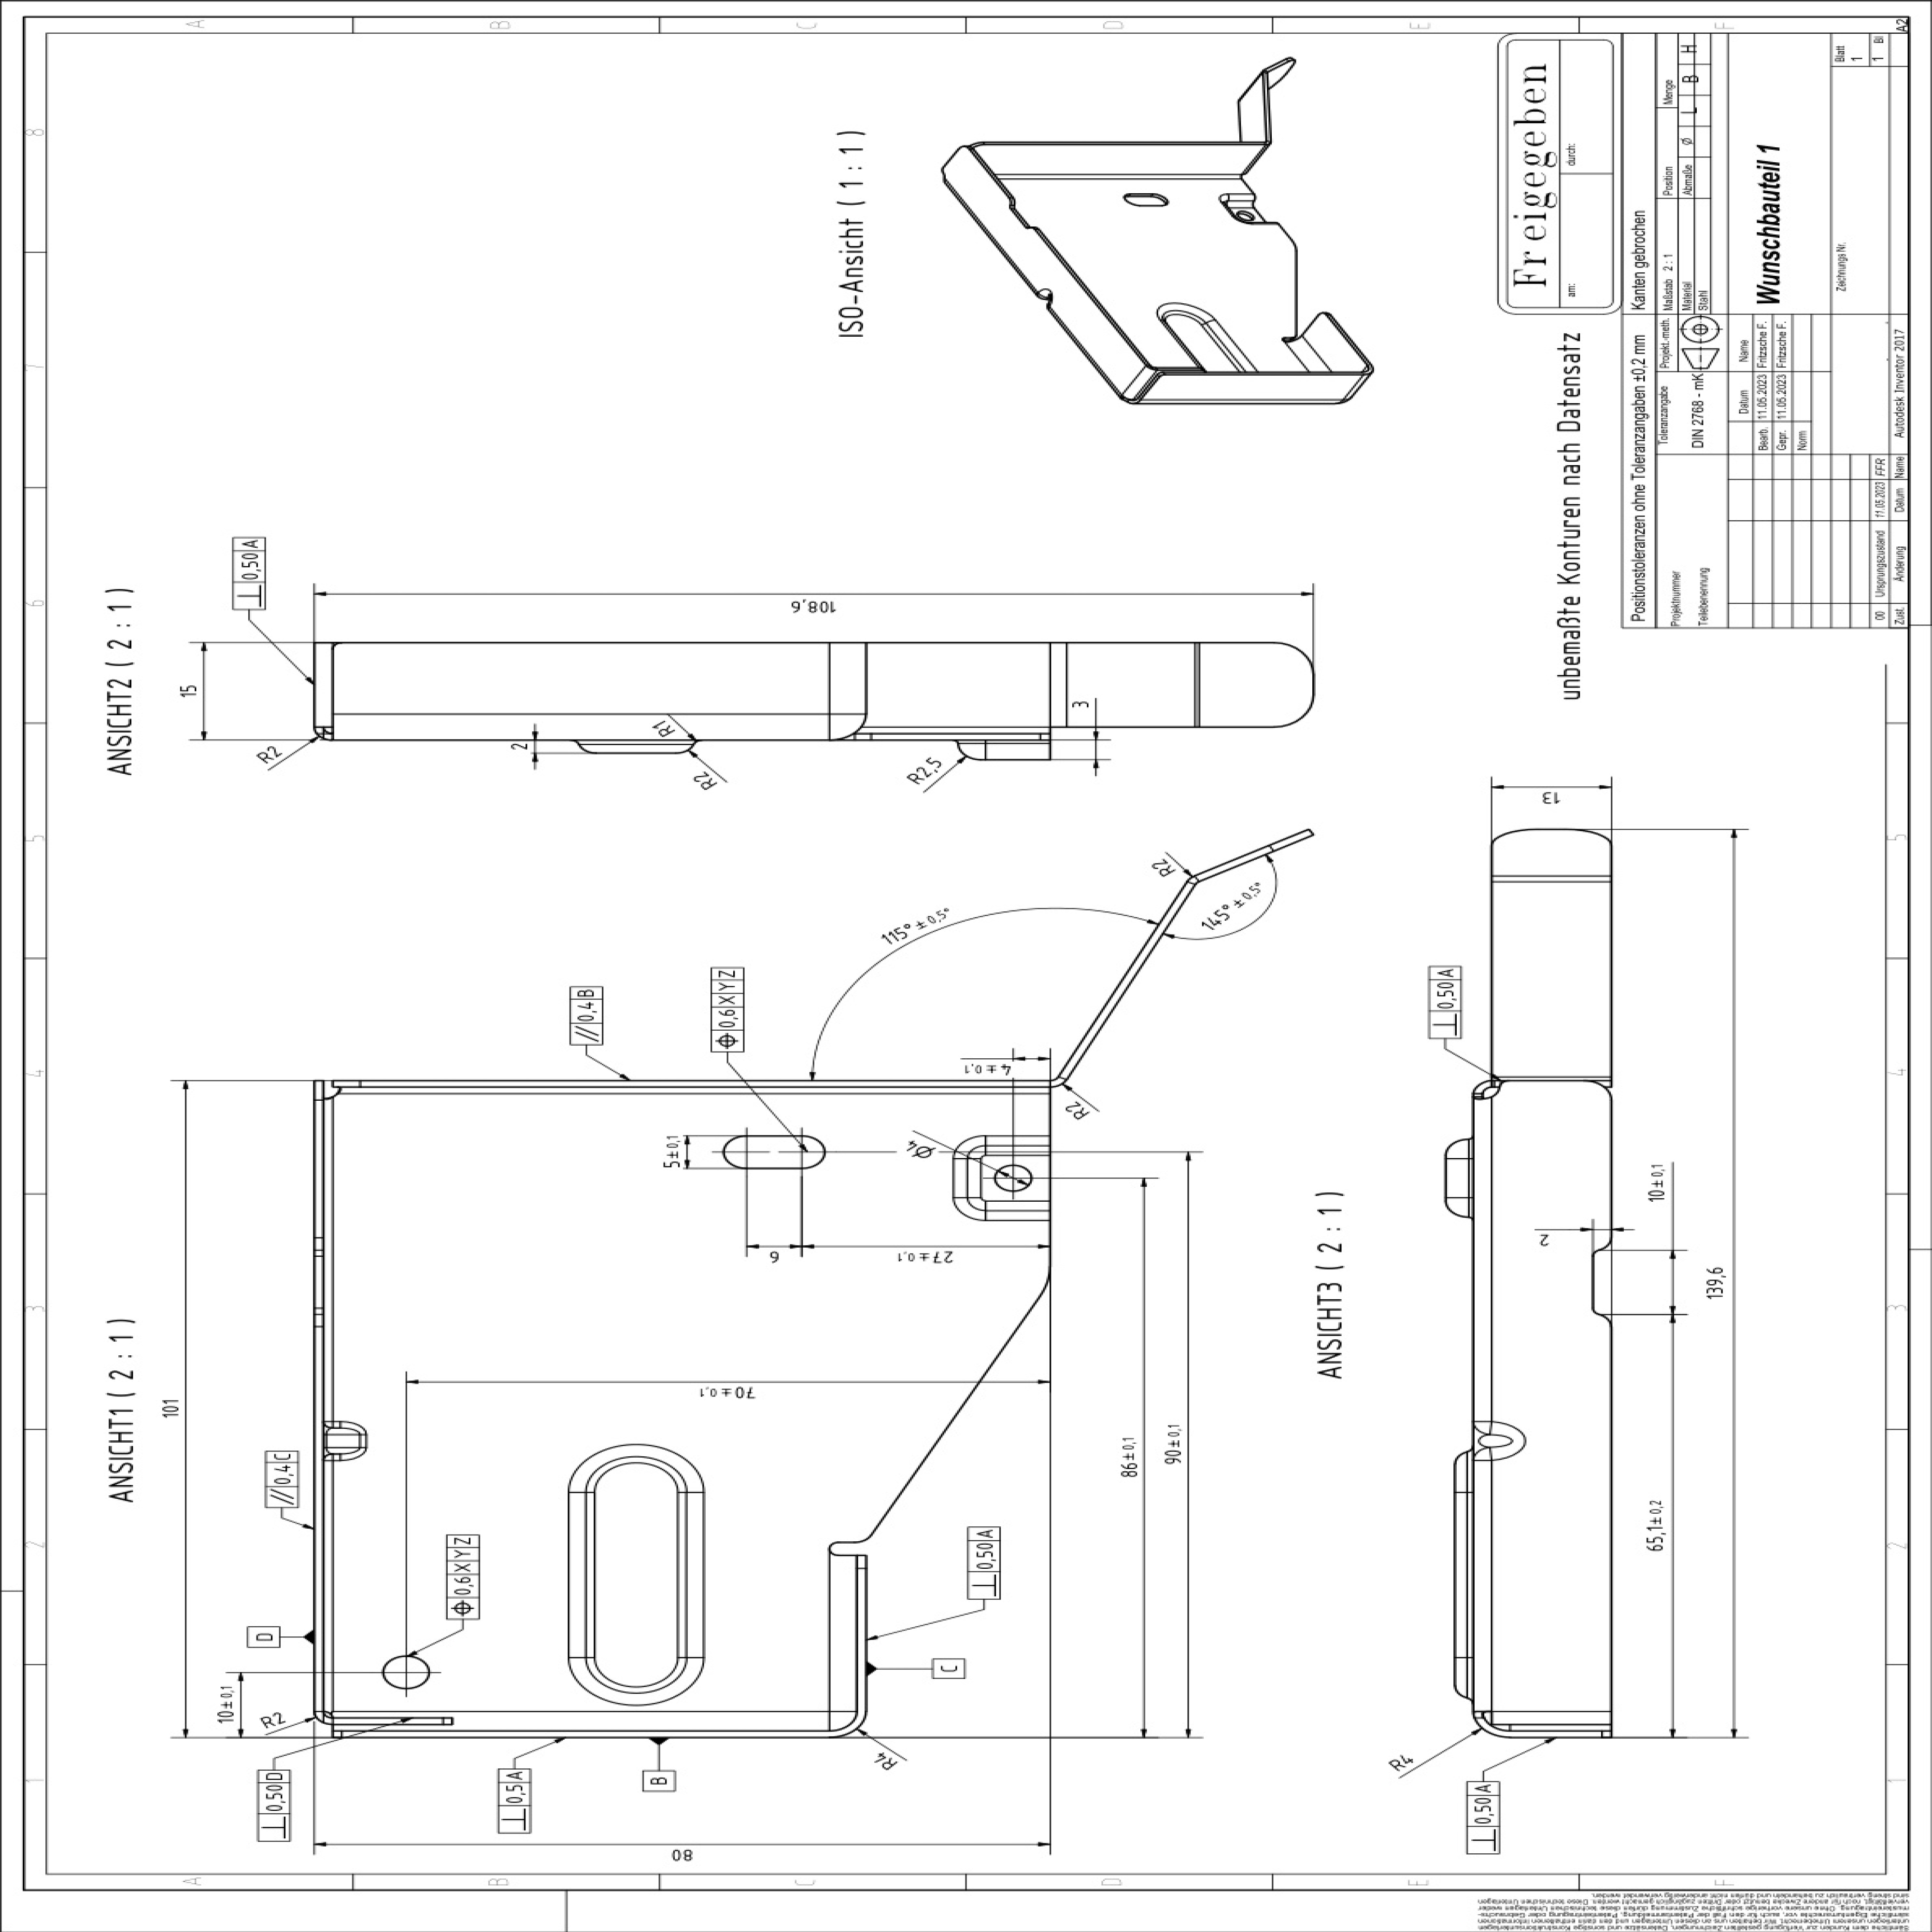BendingEdge: (1471, 1076, 1492, 1721), (1490, 1709, 1611, 1729), (1490, 874, 1608, 887), (1192, 642, 1208, 728), (1052, 645, 1068, 728), (1496, 1075, 1613, 1085)
BendingEdgeCurve: (1051, 1054, 1075, 1092), (1178, 868, 1206, 894), (314, 724, 335, 745)
Embossment: (572, 1436, 701, 1704), (953, 1127, 1052, 1222)
EmbossmentExternal: (1450, 1459, 1487, 1698), (572, 736, 705, 759), (956, 736, 1068, 761), (1445, 1141, 1473, 1222)
InnerContour: (724, 1132, 825, 1169), (379, 1648, 432, 1693), (998, 1164, 1035, 1187)
Notch: (1584, 1239, 1620, 1324)
Reinforcement: (1468, 1417, 1529, 1466), (329, 1420, 368, 1466)
